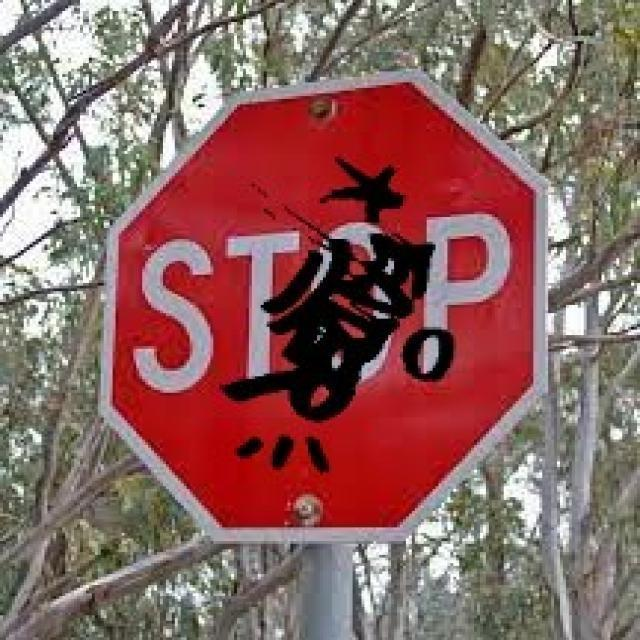Stop-Sign: (117, 81, 532, 530)
